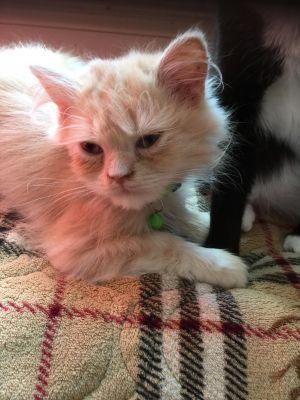persian: (24, 26, 239, 221)
